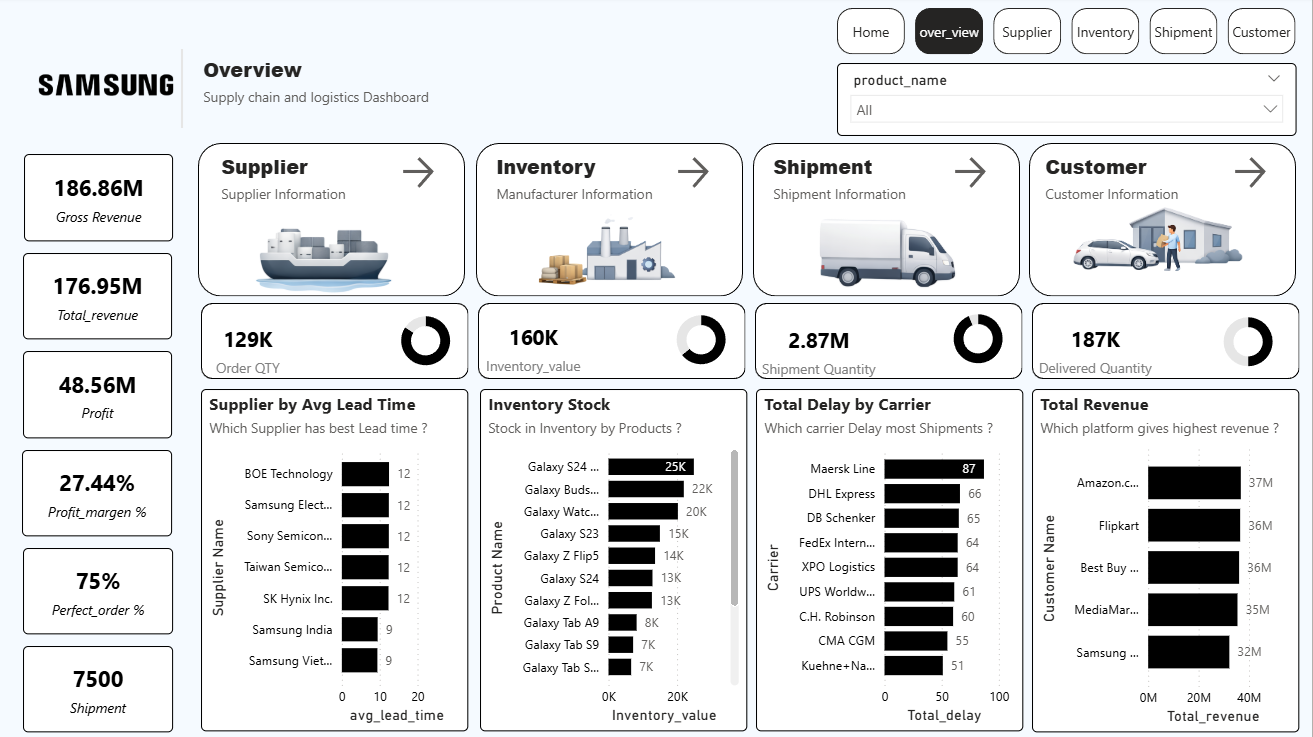

The dashboard page shown, as its layout file describes it:
{"tool":"powerbi","page":{"name":"over_view","canvas":[1280,720],"ordinal":1},"visuals":[{"type":"shape","box":[467.2,142.1,259.7,149.3],"z":0},{"type":"shape","box":[196.3,142.1,259.7,149.3],"z":1000},{"type":"shape","box":[736.1,142.1,259.7,149.3],"z":2000},{"type":"shape","box":[1005,142.1,259.7,149.3],"z":3000},{"type":"image","box":[1040.8,174.8,187.1,116.5],"z":4000},{"type":"image","box":[785.2,195.3,160.5,96.1],"z":5000},{"type":"image","box":[230,206.5,169.7,84.9],"z":6000},{"type":"image","box":[499.9,195.3,178.9,96.1],"z":7000},{"type":"actionButton","box":[390,150.8,56.4,39.9],"z":8000},{"type":"actionButton","box":[657.5,150.8,56.4,39.9],"z":9000},{"type":"actionButton","box":[926.9,150.8,56.4,39.9],"z":10000},{"type":"actionButton","box":[1199.3,150.8,56.4,39.9],"z":11000},{"type":"textbox","title":"Supplier ","box":[214,150.8,176,58.4],"z":12000},{"type":"textbox","title":"Inventory ","box":[481.5,150.8,176,58.4],"z":13000},{"type":"textbox","title":"Shipment  ","box":[750.9,150.8,176,58.4],"z":14000},{"type":"textbox","title":"Customer","box":[1015.4,150.8,176,58.4],"z":15000},{"type":"image","box":[0,0,214,171.2],"z":16000},{"type":"shape","box":[73.9,50.6,214,76.8],"z":17000},{"type":"textbox","title":"Overview ","box":[196.5,56.4,250,58.4],"z":18000},{"type":"card","fields":{"Values":["measure_table.Total_revenue"]},"box":[26,249.2,145,84],"z":19000},{"type":"card","fields":{"Values":["measure_table.Profit"]},"box":[26,344.5,145,84.8],"z":20000},{"type":"card","fields":{"Values":["measure_table.Profit_margen %"]},"box":[25,440.6,145.9,84],"z":21000},{"type":"card","fields":{"Values":["measure_table.Perfect_order %"]},"box":[26,535.9,145.9,84],"z":22000},{"type":"card","fields":{"Values":["measure_table.Total_shipment"]},"box":[26,631.1,145.9,84],"z":23000},{"type":"card","title":"Gross Profit ","fields":{"Values":["Sum(Sales.gross_revenue)"]},"box":[27,152.9,145,85],"z":24000},{"type":"shape","box":[199.3,297.3,260.3,74],"z":25000},{"type":"shape","box":[468.9,297.3,260.3,74],"z":26000},{"type":"shape","box":[738.4,297.3,260.3,74],"z":27000},{"type":"shape","box":[1007.9,297.3,260.3,74],"z":28000},{"type":"card","fields":{"Values":["measure_table.Order QTY"]},"box":[181,306.7,127.8,73.6],"z":29000},{"type":"card","fields":{"Values":["measure_table.Inventory_value"]},"box":[458,304.7,128.8,73.6],"z":30000},{"type":"card","fields":{"Values":["measure_table.Total_shipment_quantity"]},"box":[736.1,307.7,127.8,73.6],"z":31000},{"type":"card","fields":{"Values":["measure_table.Total_Delivered_quantity"]},"box":[1005,306.7,128.8,73.6],"z":32000},{"type":"clusteredBarChart","title":"Supplier by Avg Lead Time ","fields":{"Y":["measure_table.avg_lead_time"],"Category":["Supplier.supplier_name"]},"box":[199.4,381.2,259.7,333.3],"z":33000},{"type":"clusteredBarChart","title":"Inventory Stock","fields":{"Y":["measure_table.Inventory_value"],"Category":["Product.product_name"]},"box":[470.3,381.2,259.7,333.3],"z":34000},{"type":"clusteredBarChart","title":"Total Delay by Carrier","fields":{"Category":["Shipment.carrier"],"Y":["measure_table.Total_delay"]},"box":[739.2,381.2,259.7,333.3],"z":35000},{"type":"clusteredBarChart","title":"Total Revenue ","fields":{"Y":["measure_table.Total_revenue"],"Category":["Customer.customer_name"]},"box":[1008.1,381.3,259.7,334.3],"z":36000},{"type":"donutChart","fields":{"Y":["measure_table.Order QTY","measure_table.Defect_rate"]},"box":[354.8,299.6,125.8,69.5],"z":37000},{"type":"donutChart","fields":{"Y":["measure_table.Inventory_value","measure_table.Sefet_stock"]},"box":[623.6,298.5,124.7,69.5],"z":38000},{"type":"donutChart","fields":{"Y":["measure_table.Total_shipment_quantity","measure_table.Total_Delivered_quantity"]},"box":[892.5,297.5,124.7,69.5],"z":39000},{"type":"donutChart","fields":{"Y":["measure_table.Total_Delivered_quantity","measure_table.Total_QTY_delay"]},"box":[1155.3,300.6,124.7,69.5],"z":40000},{"type":"pageNavigator","box":[818,10.7,451.3,45.7],"z":41000},{"type":"slicer","fields":{"Values":["Product.product_name"]},"box":[817.6,63.7,447.2,70.8],"z":42000}]}

Visuals, with their boxes in screenshot pixels (x1, y1, x2, y2), scaled from the page's 1280x720 canvas onto the 1313x737 screenshot:
shape: l=479, t=145, r=746, b=298
shape: l=201, t=145, r=468, b=298
shape: l=755, t=145, r=1021, b=298
shape: l=1031, t=145, r=1297, b=298
image: l=1068, t=179, r=1260, b=298
image: l=805, t=200, r=970, b=298
image: l=236, t=211, r=410, b=298
image: l=513, t=200, r=696, b=298
actionButton: l=400, t=154, r=458, b=195
actionButton: l=674, t=154, r=732, b=195
actionButton: l=951, t=154, r=1009, b=195
actionButton: l=1230, t=154, r=1288, b=195
"Supplier " textbox: l=220, t=154, r=400, b=214
"Inventory " textbox: l=494, t=154, r=674, b=214
"Shipment  " textbox: l=770, t=154, r=951, b=214
"Customer" textbox: l=1042, t=154, r=1222, b=214
image: l=0, t=0, r=220, b=175
shape: l=76, t=52, r=295, b=130
"Overview " textbox: l=202, t=58, r=458, b=118
card - measure_table.Total_revenue: l=27, t=255, r=175, b=341
card - measure_table.Profit: l=27, t=353, r=175, b=439
card - measure_table.Profit_margen %: l=26, t=451, r=175, b=537
card - measure_table.Perfect_order %: l=27, t=549, r=176, b=635
card - measure_table.Total_shipment: l=27, t=646, r=176, b=732
"Gross Profit " card: l=28, t=157, r=176, b=244
shape: l=204, t=304, r=471, b=380
shape: l=481, t=304, r=748, b=380
shape: l=757, t=304, r=1024, b=380
shape: l=1034, t=304, r=1301, b=380
card - measure_table.Order QTY: l=186, t=314, r=317, b=389
card - measure_table.Inventory_value: l=470, t=312, r=602, b=387
card - measure_table.Total_shipment_quantity: l=755, t=315, r=886, b=390
card - measure_table.Total_Delivered_quantity: l=1031, t=314, r=1163, b=389
"Supplier by Avg Lead Time " clusteredBarChart: l=205, t=390, r=471, b=731
"Inventory Stock" clusteredBarChart: l=482, t=390, r=749, b=731
"Total Delay by Carrier" clusteredBarChart: l=758, t=390, r=1025, b=731
"Total Revenue " clusteredBarChart: l=1034, t=390, r=1300, b=732
donutChart - measure_table.Order QTY x measure_table.Defect_rate: l=364, t=307, r=493, b=378
donutChart - measure_table.Inventory_value x measure_table.Sefet_stock: l=640, t=306, r=768, b=377
donutChart - measure_table.Total_shipment_quantity x measure_table.Total_Delivered_quantity: l=916, t=305, r=1043, b=376
donutChart - measure_table.Total_Delivered_quantity x measure_table.Total_QTY_delay: l=1185, t=308, r=1312, b=379
pageNavigator: l=839, t=11, r=1302, b=58
slicer - Product.product_name: l=839, t=65, r=1297, b=138
